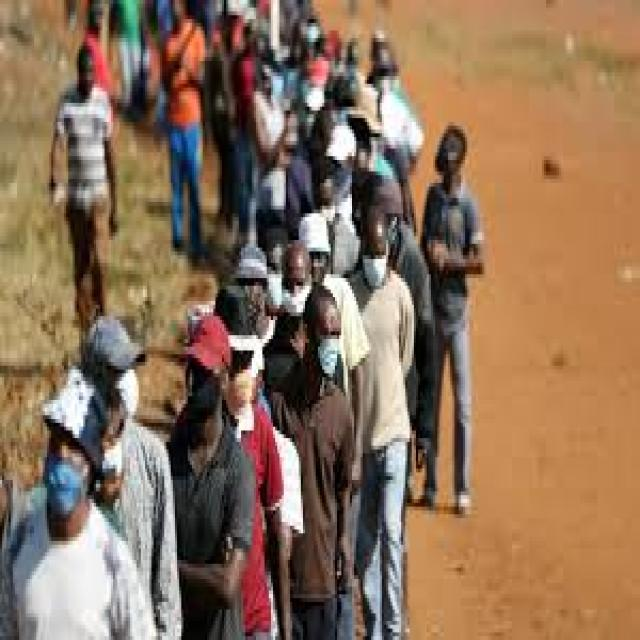cap: (74, 316, 156, 385), (175, 305, 235, 392), (44, 366, 106, 450), (324, 114, 358, 176)
